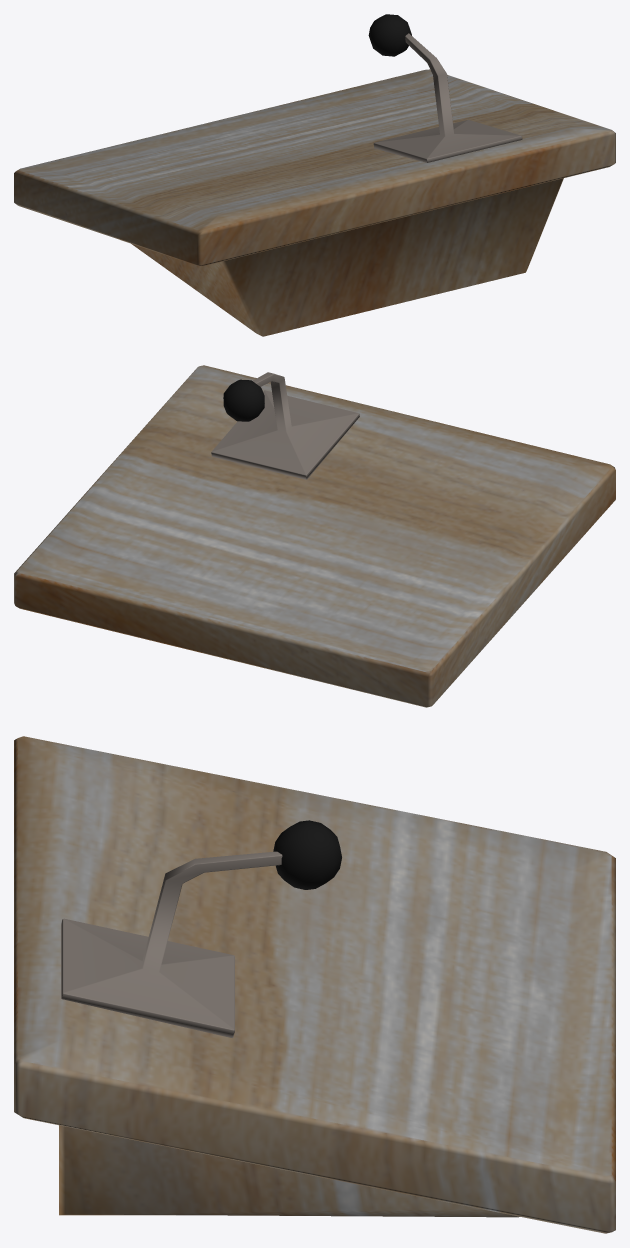
File: Table.fbx
3 renders of one model, top to bottom at view 1: azimuth 30°, elevation 25°; view 2: azimuth 150°, elevation 25°; view 3: azimuth 270°, elevation 25°, orthographic. The views are drawn at different scales.
Parts seen in each view (by area): view 1: polySurface8; view 2: polySurface8; view 3: polySurface8.
Part boxes in pixels (x1,y1,x2,y2): polySurface8: (14, 14, 615, 336); polySurface8: (14, 365, 615, 707); polySurface8: (14, 736, 615, 1233).
Size of the model in its own units: 4.39 by 2.15 by 3.39.
1 material, 1 textured.
